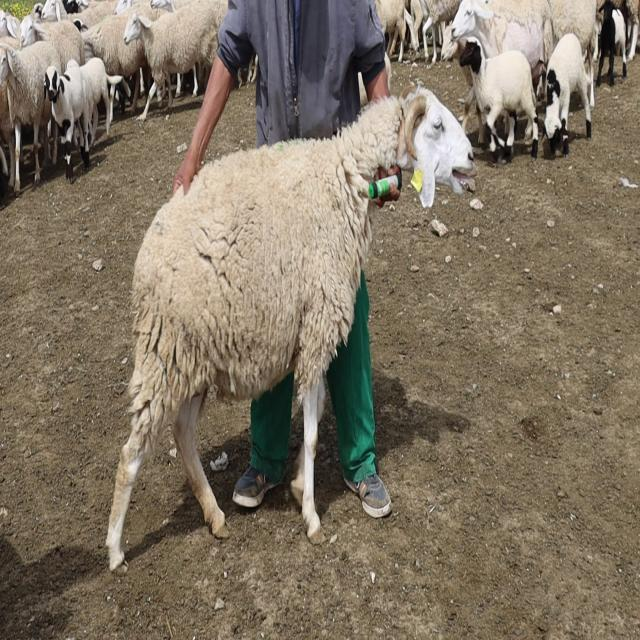Score_3: (106, 87, 474, 570)
